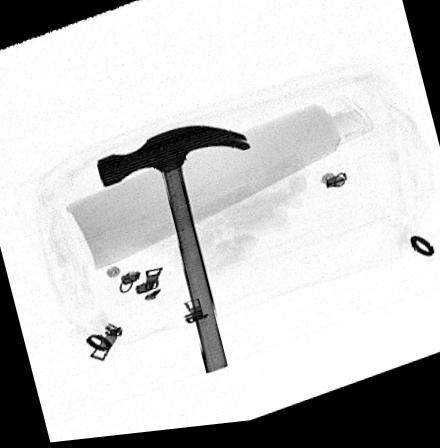Hammer: (95, 128, 252, 379)
